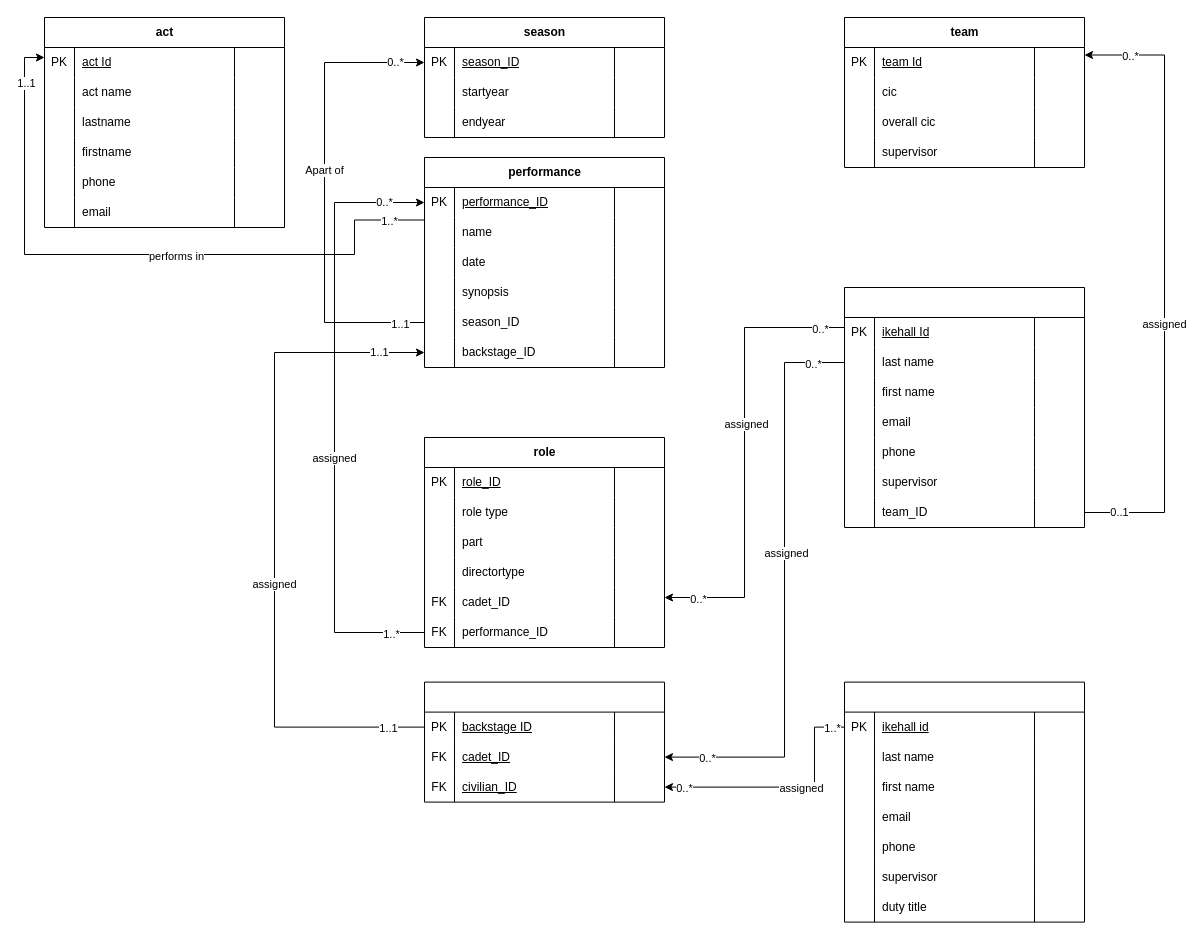
Some shapes in this 1203 by 940 pixel diagram are drawn without their labels. The shapes that lost their labels are listed below. From the top down, each one's box as (x1, y1, x2, y2) in pixels, then its label:
(844, 286, 1084, 528): cadet
(424, 681, 664, 802): backstage crew
(844, 681, 1084, 922): civilian
